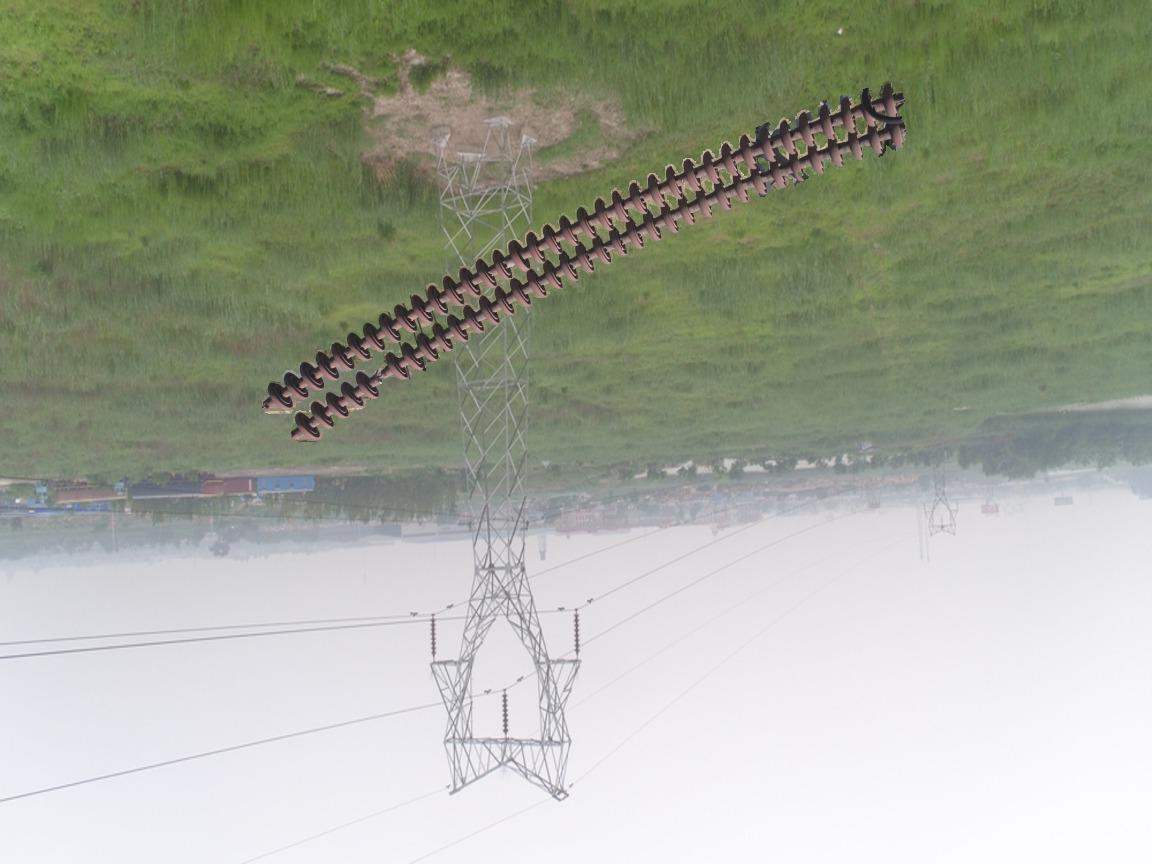insulator: (263, 80, 909, 442), (497, 689, 513, 735), (571, 612, 584, 656), (428, 615, 440, 660)
insulator_stringdrop: (354, 350, 414, 403)
